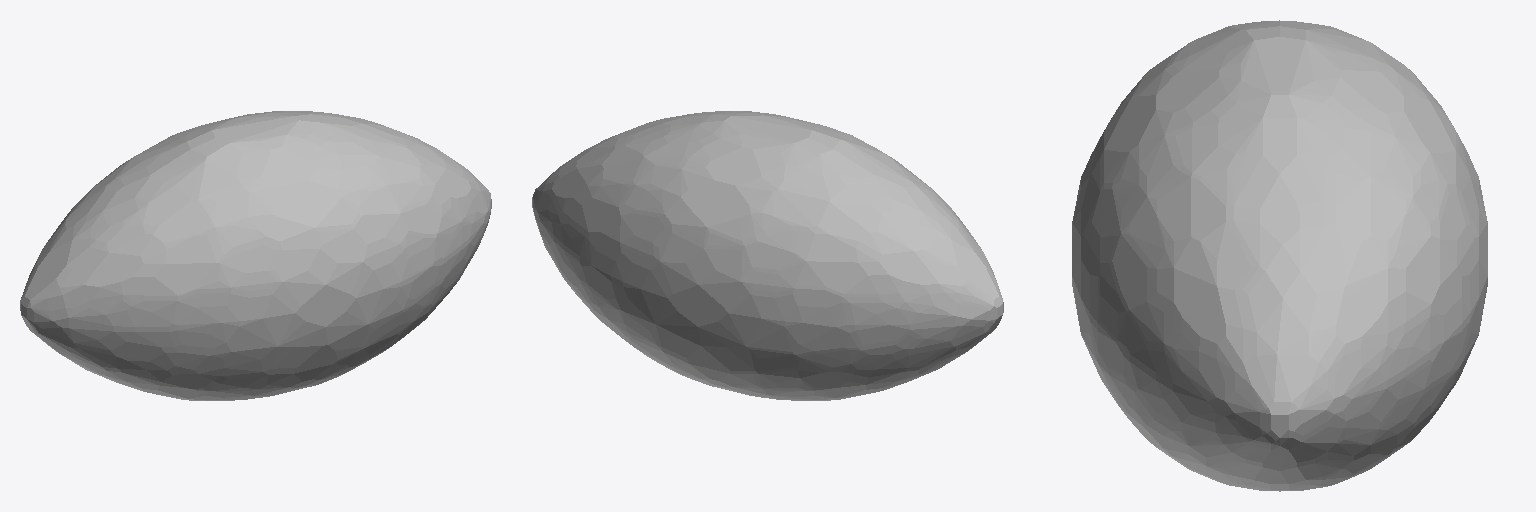
robot.urdf — root:
<robot name="root">
  <link name="link_coacd_convex_piece_0">
    <inertial>
      <origin xyz="0 0 0" rpy="0 0 0"/>
      <inertia ixx="8.91E-02" ixy="-1.37E-04" ixz="-1.23E-04" iyy="1.83E-01" iyz="-5.34E-05" izz="1.83E-01"/>
    </inertial>
    <visual>
      <origin xyz="0 0 0" rpy="0 0 0"/>
      <geometry>
        <mesh filename="coacd_convex_piece_0.obj" scale="1.0000E+00 1.0000E+00 1.0000E+00"/>
      </geometry>
      <material name="">
        <color rgba="7.50E-01 7.50E-01 7.50E-01 1"/>
      </material>
    </visual>
    <collision>
      <origin xyz="0 0 0" rpy="0 0 0"/>
      <geometry>
        <mesh filename="coacd_convex_piece_0.obj" scale="1.0000E+00 1.0000E+00 1.0000E+00"/>
      </geometry>
    </collision>
  </link>
</robot>

--- Render facts (derived) ---
3 views of the same robot in one strip: view 1: azimuth 30°, elevation 25°; view 2: azimuth 150°, elevation 25°; view 3: azimuth 270°, elevation 25° (orthographic).
Model root with 1 links and 0 joints (none), rooted at link_coacd_convex_piece_0, posed all joints at 0.
Visible links, largest first — view 1: link_coacd_convex_piece_0; view 2: link_coacd_convex_piece_0; view 3: link_coacd_convex_piece_0.
Link boxes in pixels (x1,y1,x2,y2): link_coacd_convex_piece_0: [20, 111, 491, 400]; link_coacd_convex_piece_0: [532, 111, 1003, 400]; link_coacd_convex_piece_0: [1072, 20, 1487, 491].
Bounding box of the posed robot: 1.96 × 1.02 × 1.02 m (x, y, z).
1 mesh visuals loaded from 1 distinct referenced files (1 OBJ).